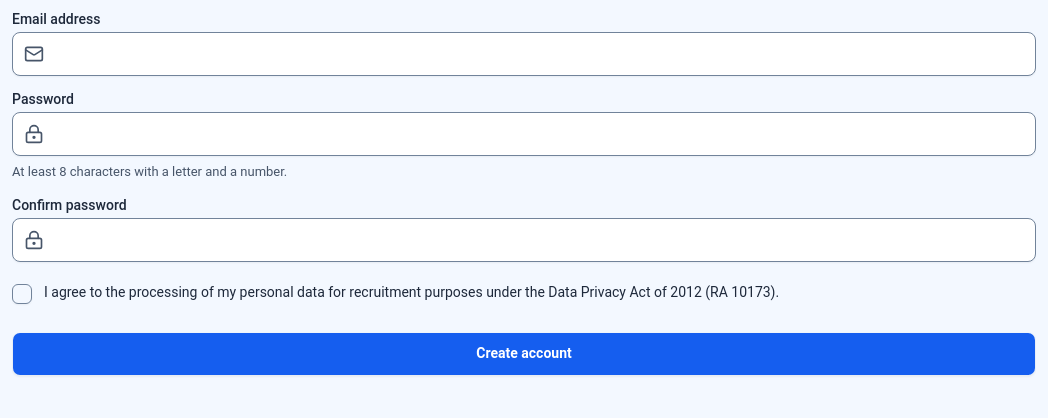
SignUpForm › rejects a mismatched confirmation (TC-03)
Type "ana@example.com" into the field labelled "Email address" at {"x": 524, "y": 54}, box [12, 32, 1036, 76]
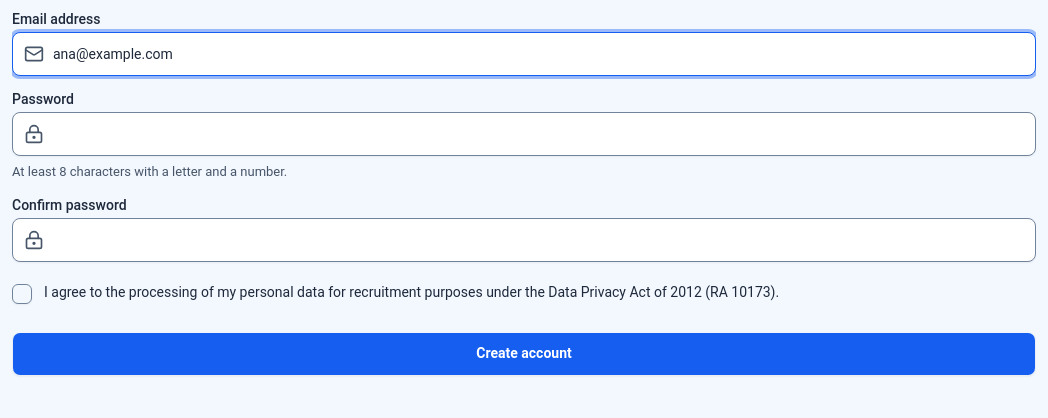
Type "Secret123" into the password field labelled "Password" at {"x": 524, "y": 134}, box [12, 112, 1036, 156]
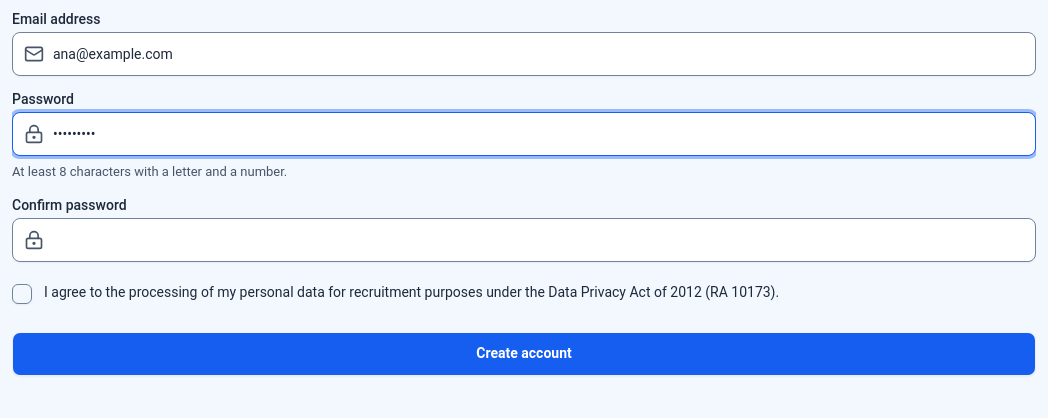
Type "Secret124" into the password field labelled "Confirm password" at {"x": 524, "y": 240}, box [12, 218, 1036, 262]
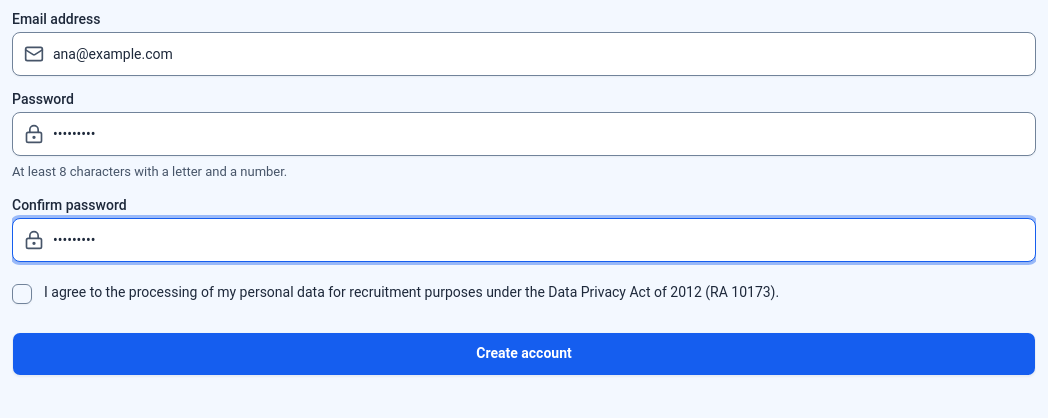
Click the checkbox at {"x": 22, "y": 294}, box [12, 284, 32, 304]
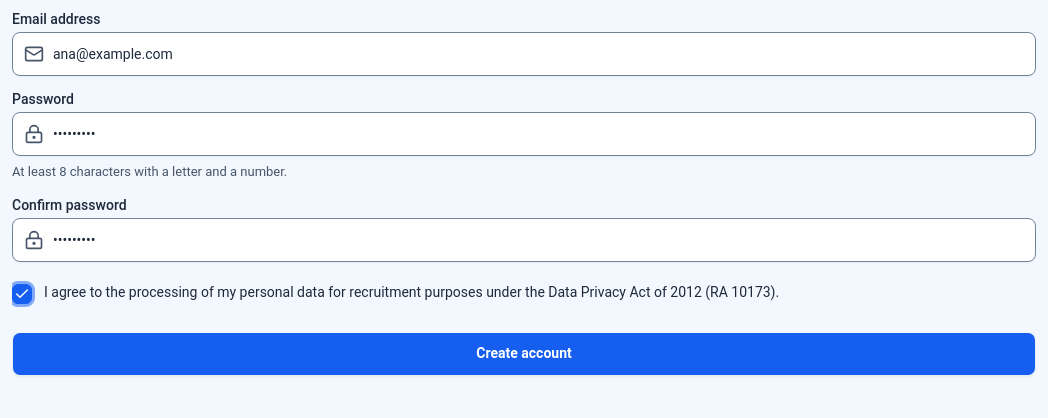
Click the button "Create account" at {"x": 524, "y": 354}, box [12, 332, 1036, 376]
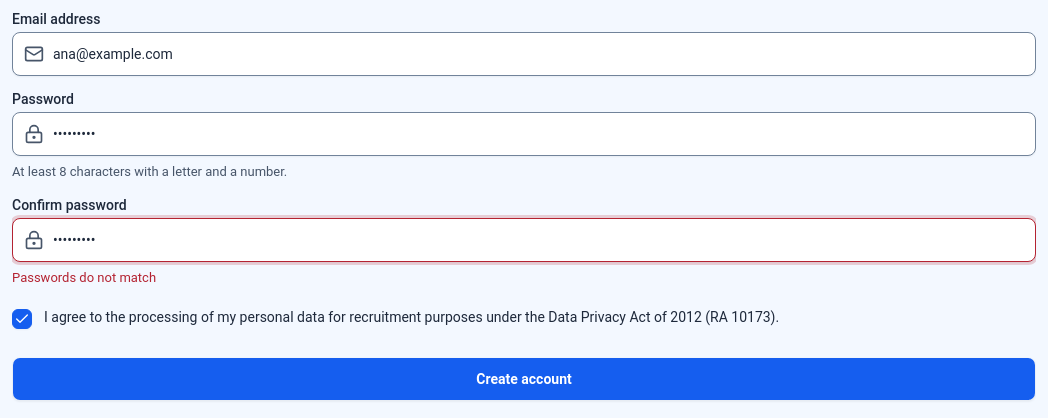
Expected: the text "Passwords do not match" is shown, [12, 270, 156, 284]
